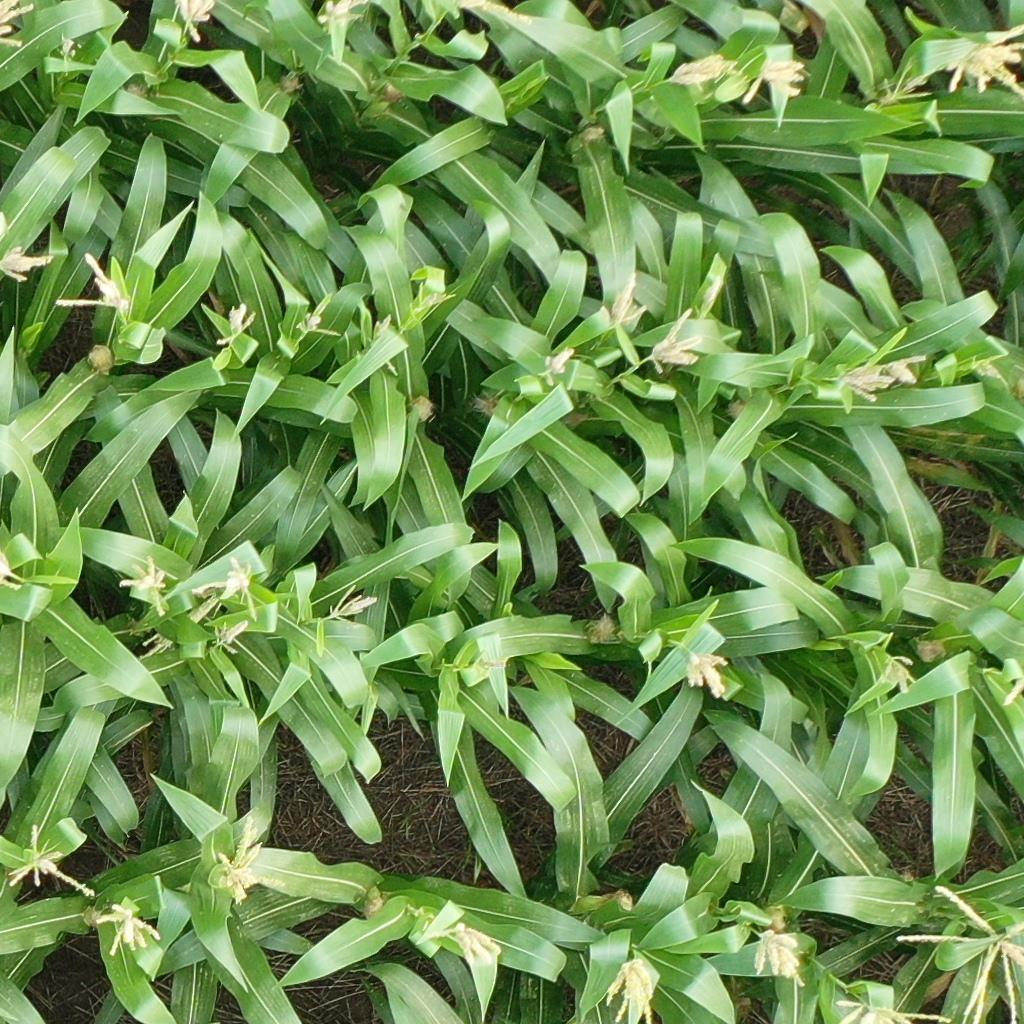Tassel: (896, 884, 1024, 1024), (213, 815, 288, 904), (7, 823, 94, 899), (947, 24, 1024, 99), (54, 247, 134, 317), (139, 594, 218, 662), (192, 555, 260, 620), (645, 306, 704, 377), (94, 900, 161, 958), (423, 920, 505, 966), (605, 956, 657, 1024), (753, 926, 810, 986), (830, 996, 950, 1024), (118, 553, 170, 616), (417, 1, 532, 29), (744, 58, 809, 106), (879, 55, 943, 101), (833, 359, 896, 403), (672, 52, 745, 89), (683, 647, 733, 697), (291, 291, 344, 338), (603, 271, 645, 328), (326, 583, 379, 626), (1, 245, 54, 282), (171, 1, 217, 43), (215, 305, 260, 347), (405, 280, 457, 316), (1, 1, 36, 51), (880, 352, 929, 384), (537, 345, 576, 385), (882, 653, 917, 694), (317, 1, 369, 28), (213, 618, 249, 656), (471, 649, 507, 674), (703, 275, 726, 310), (970, 357, 1004, 380), (370, 311, 392, 345), (60, 36, 79, 63)
